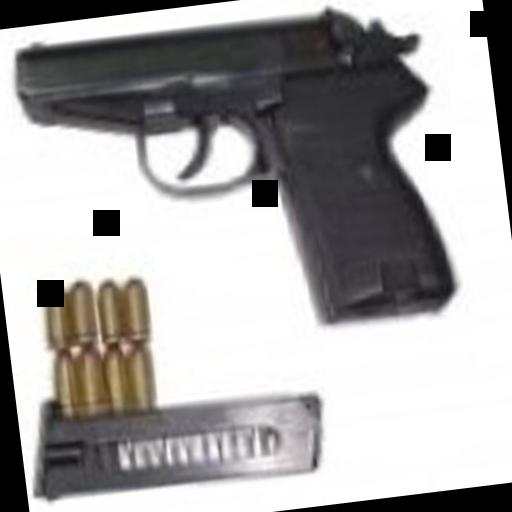Handgun: (12, 0, 464, 361)
